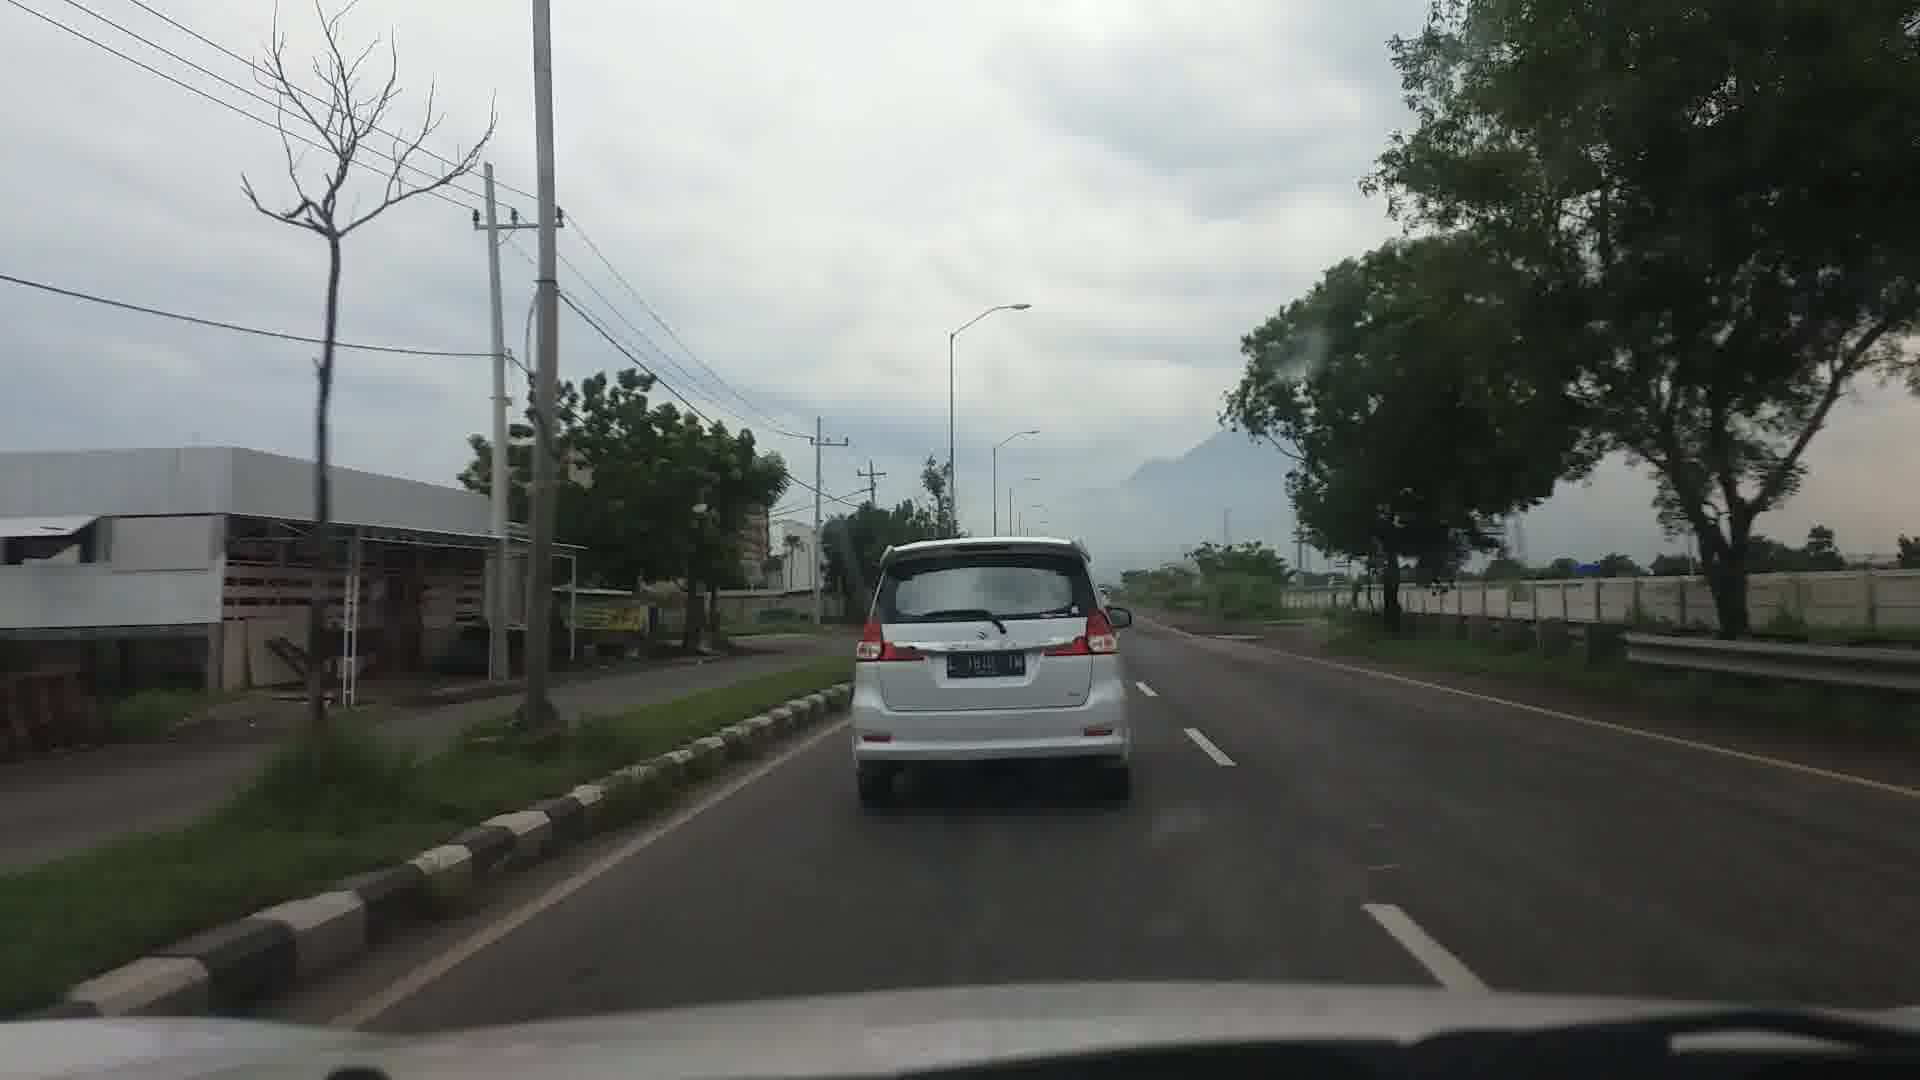plate_positive: (948, 653, 1026, 676)
